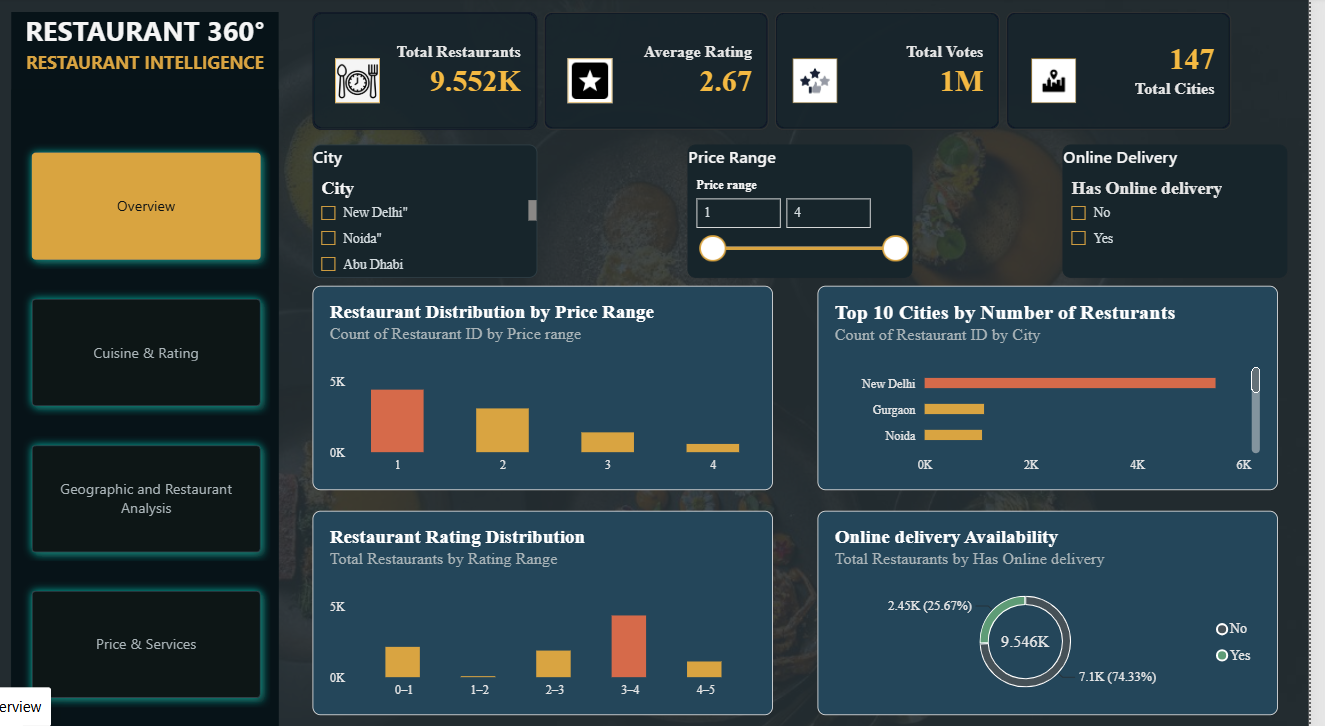

Layout of this report page (visuals, bound fields, positions):
{"tool":"powerbi","page":{"name":"Overview","canvas":[1280,720],"ordinal":0},"visuals":[{"type":"shape","box":[0,0,1280,720],"z":0},{"type":"cardVisual","fields":{"Data":["Restaurantdata.Total Restaurants"]},"box":[305.7,14.3,220,115],"z":1000},{"type":"cardVisual","fields":{"Data":["Restaurantdata.Average Rating1"]},"box":[531.9,14.3,220,115],"z":2000},{"type":"cardVisual","fields":{"Data":["Restaurantdata.Total Votes"]},"box":[758.1,14.3,220,115],"z":3000},{"type":"cardVisual","fields":{"Data":["Restaurantdata.Total Cities"]},"box":[984.3,14.3,220,115],"z":4000},{"type":"clusteredColumnChart","title":"Restaurant Distribution by Price Range","fields":{"Category":["Restaurantdata.Price range"],"Y":["CountNonNull(Restaurantdata.Restaurant ID)"]},"box":[305.7,282.9,450,200],"z":5000},{"type":"clusteredBarChart","title":"Top 10 Cities by Number of Resturants","fields":{"Category":["Restaurantdata.City"],"Y":["Count(Restaurantdata.Restaurant ID)"]},"box":[800,282.9,450,200],"z":6000},{"type":"donutChart","title":"Online delivery Availability","fields":{"Category":["Restaurantdata.Has Online delivery"],"Y":["Restaurantdata.Total Restaurants"]},"box":[800,502.9,450,200],"z":7000},{"type":"clusteredColumnChart","title":"Restaurant Rating Distribution","fields":{"Category":["Restaurantdata.Rating Range"],"Y":["Restaurantdata.Total Restaurants"]},"box":[305.7,502.9,450,200],"z":8000},{"type":"slicer","title":"City","fields":{"Values":["Restaurantdata.City"]},"box":[305.7,144,220,130],"z":9000},{"type":"slicer","title":"Price Range","fields":{"Values":["Restaurantdata.Price range"]},"box":[672.9,144,220,130],"z":10000},{"type":"slicer","title":"Online Delivery","fields":{"Values":["Restaurantdata.Has Online delivery"]},"box":[1040,144,220,130],"z":11000},{"type":"image","box":[327.1,60,44.3,44.3],"z":12000},{"type":"image","box":[775.7,60,44.3,44.3],"z":13000},{"type":"image","box":[1008.6,60,44.3,44.3],"z":14000},{"type":"image","box":[555.7,60,44.3,44.3],"z":15000},{"type":"shape","title":"RESTAURANT 360°","box":[11.4,14.3,261.4,698.6],"z":16000},{"type":"pageNavigator","box":[21.4,142.9,242.9,555.7],"z":17000}]}

Visuals, with their boxes in screenshot pixels (x1, y1, x2, y2), scaled from the page's 1280x720 canvas onto the 1325x726 screenshot:
shape: region(0, 0, 1324, 725)
cardVisual - Restaurantdata.Total Restaurants: region(316, 14, 544, 130)
cardVisual - Restaurantdata.Average Rating1: region(551, 14, 778, 130)
cardVisual - Restaurantdata.Total Votes: region(785, 14, 1012, 130)
cardVisual - Restaurantdata.Total Cities: region(1019, 14, 1247, 130)
"Restaurant Distribution by Price Range" clusteredColumnChart: region(316, 285, 782, 487)
"Top 10 Cities by Number of Resturants" clusteredBarChart: region(828, 285, 1294, 487)
"Online delivery Availability" donutChart: region(828, 507, 1294, 709)
"Restaurant Rating Distribution" clusteredColumnChart: region(316, 507, 782, 709)
"City" slicer: region(316, 145, 544, 276)
"Price Range" slicer: region(697, 145, 924, 276)
"Online Delivery" slicer: region(1077, 145, 1304, 276)
image: region(339, 60, 384, 105)
image: region(803, 60, 849, 105)
image: region(1044, 60, 1090, 105)
image: region(575, 60, 621, 105)
"RESTAURANT 360°" shape: region(12, 14, 282, 719)
pageNavigator: region(22, 144, 274, 704)
